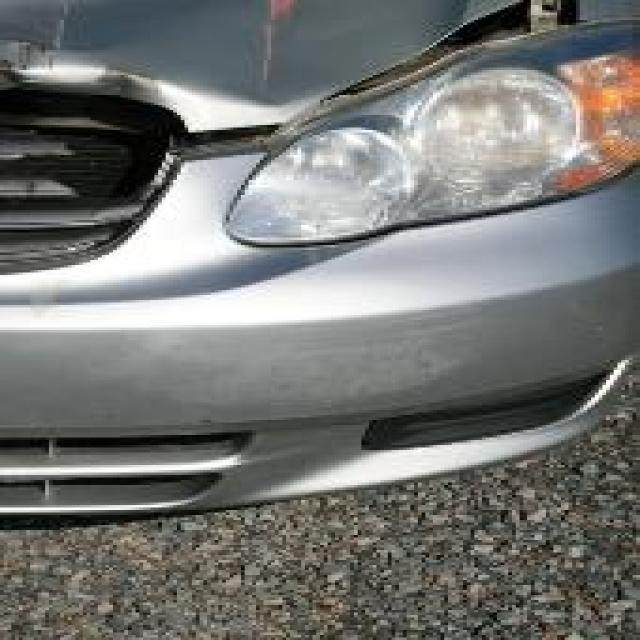Bonnet: (0, 18, 324, 138)
